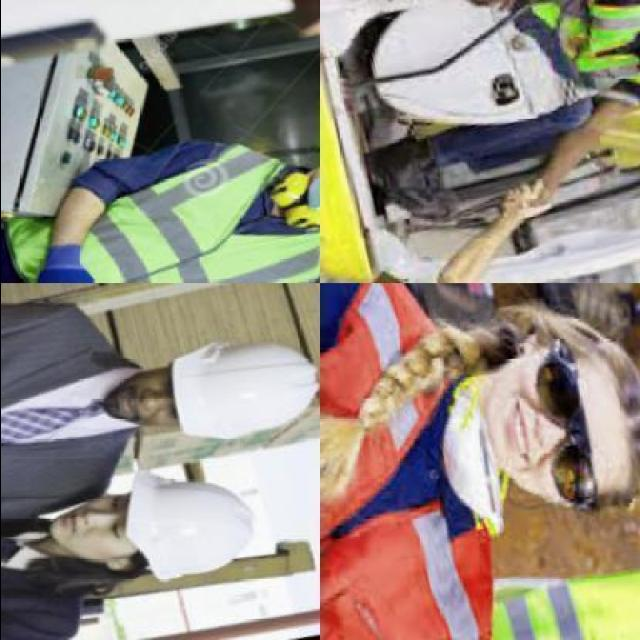helmet: (168, 320, 314, 452), (115, 474, 256, 590)
jacket: (9, 144, 328, 286)
